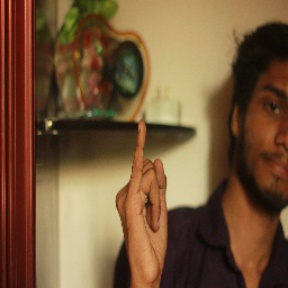I: (114, 118, 172, 275)
